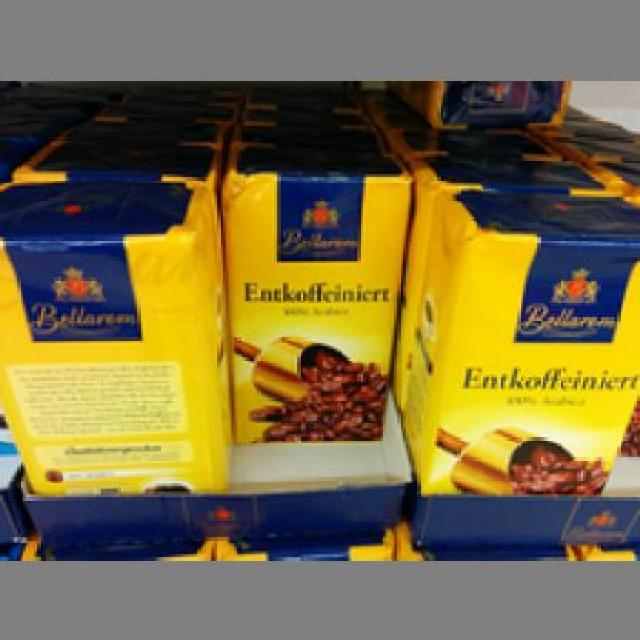Coffee: (405, 186, 638, 494), (0, 180, 226, 489), (219, 134, 412, 443)
